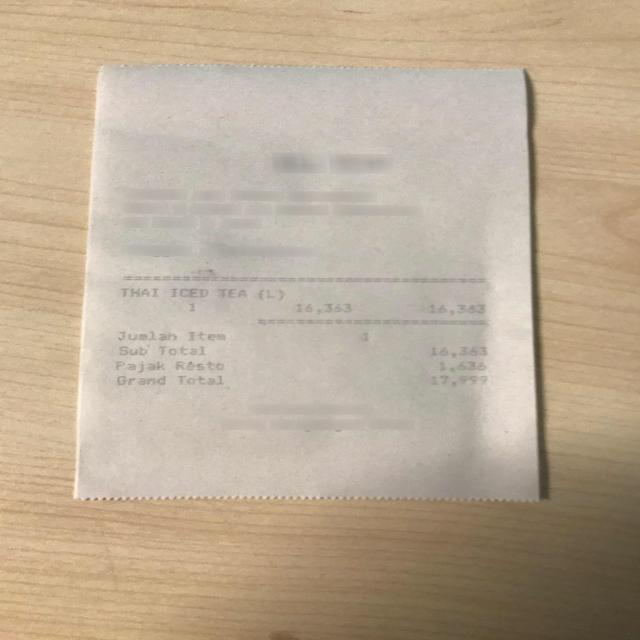kertas: (76, 64, 542, 501)
